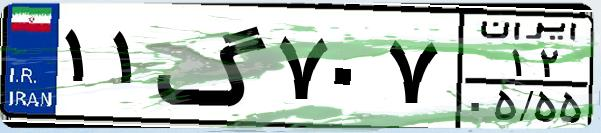0: (330, 28, 385, 110), (470, 70, 495, 125)
1: (57, 26, 110, 100), (110, 28, 156, 98), (508, 27, 537, 80)
2: (537, 27, 568, 80)
5: (560, 70, 590, 125), (495, 70, 520, 125), (535, 70, 560, 125)
7: (270, 28, 330, 110), (385, 28, 445, 110)
گ: (156, 12, 270, 120)
